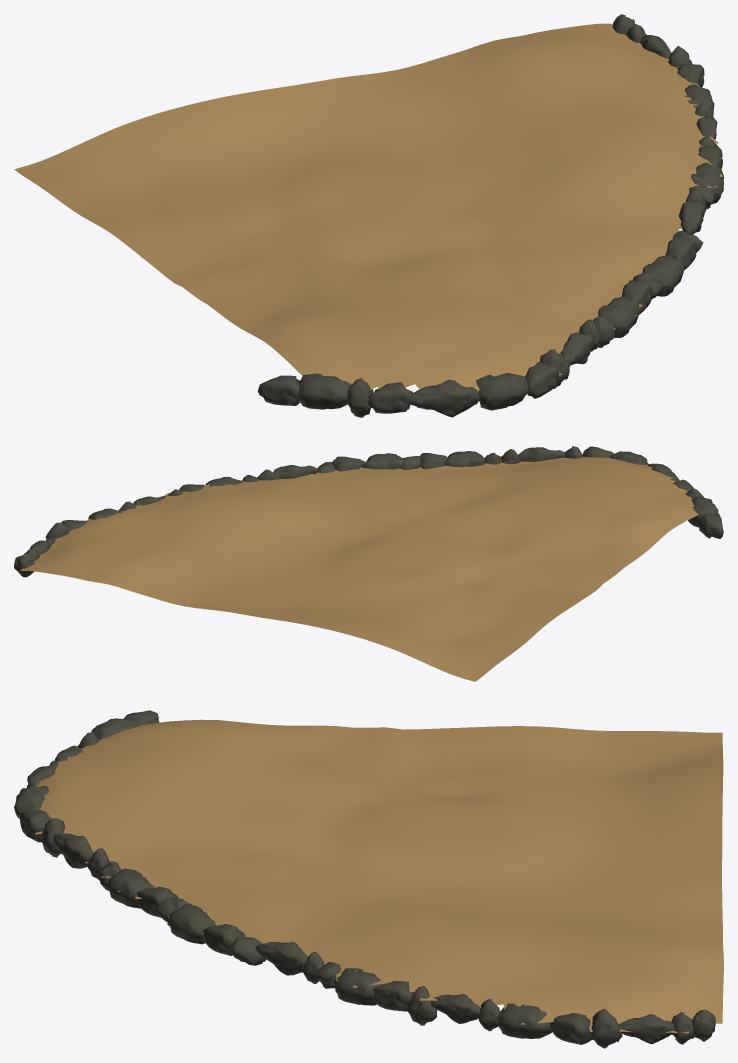
The model's file is big_ground_03.fbx.
3 views of the same model, one above another, from view 1: azimuth 30°, elevation 25°; view 2: azimuth 150°, elevation 25°; view 3: azimuth 270°, elevation 25° (orthographic). The views are drawn at different scales.
Parts seen in each view (by area): view 1: polySurface_big_ground_03; view 2: polySurface_big_ground_03; view 3: polySurface_big_ground_03.
Part boxes in pixels (x1,y1,x2,y2): polySurface_big_ground_03: (14,14,723,417); polySurface_big_ground_03: (14,446,723,681); polySurface_big_ground_03: (14,710,723,1048).
Size of the model in its own units: 279 by 20.36 by 261.
